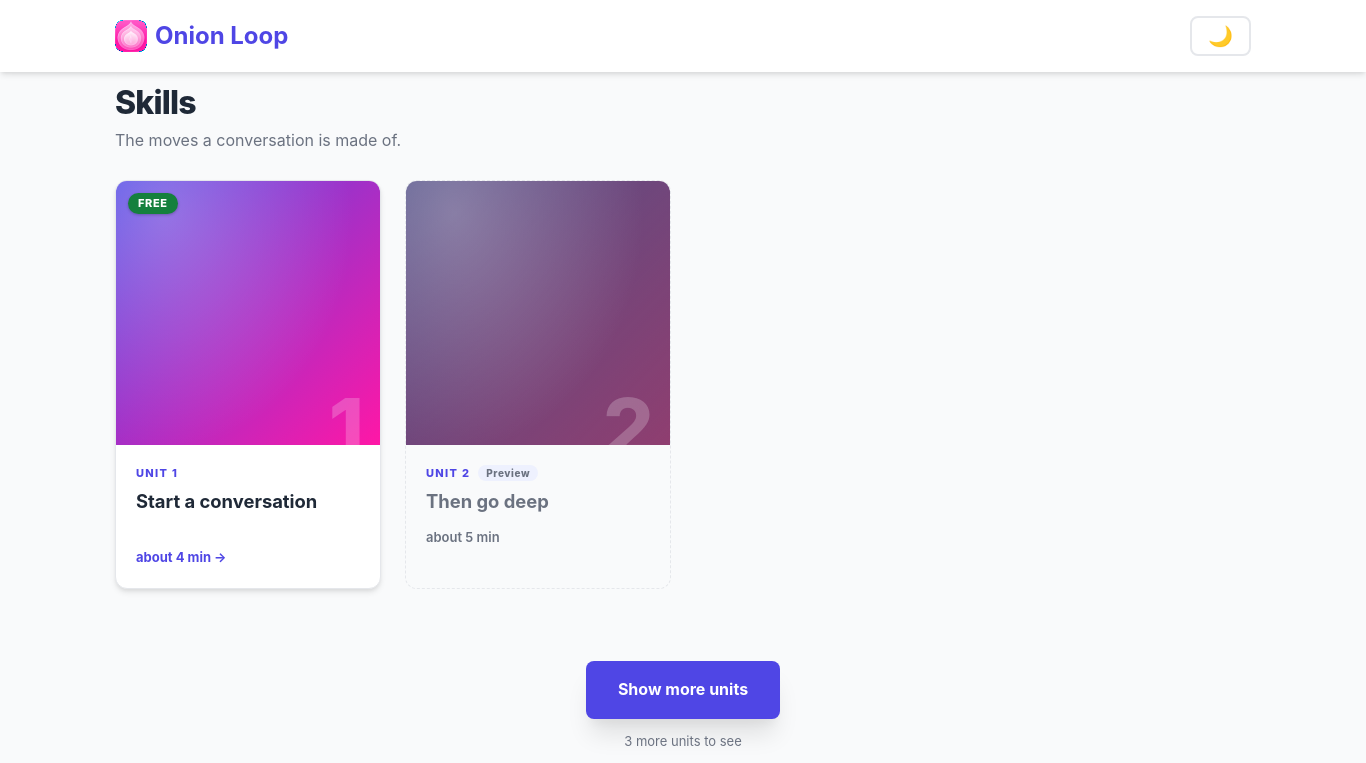
Test case: an authored example is never passed off as a rewrite of what you said
The width and height of the screenshot is (1366, 763).
(page scrolled)
Click the button "UNIT 1 Start a conversation Free about 4 min →" at (248, 384), box [115,180,381,589]
(page scrolled)
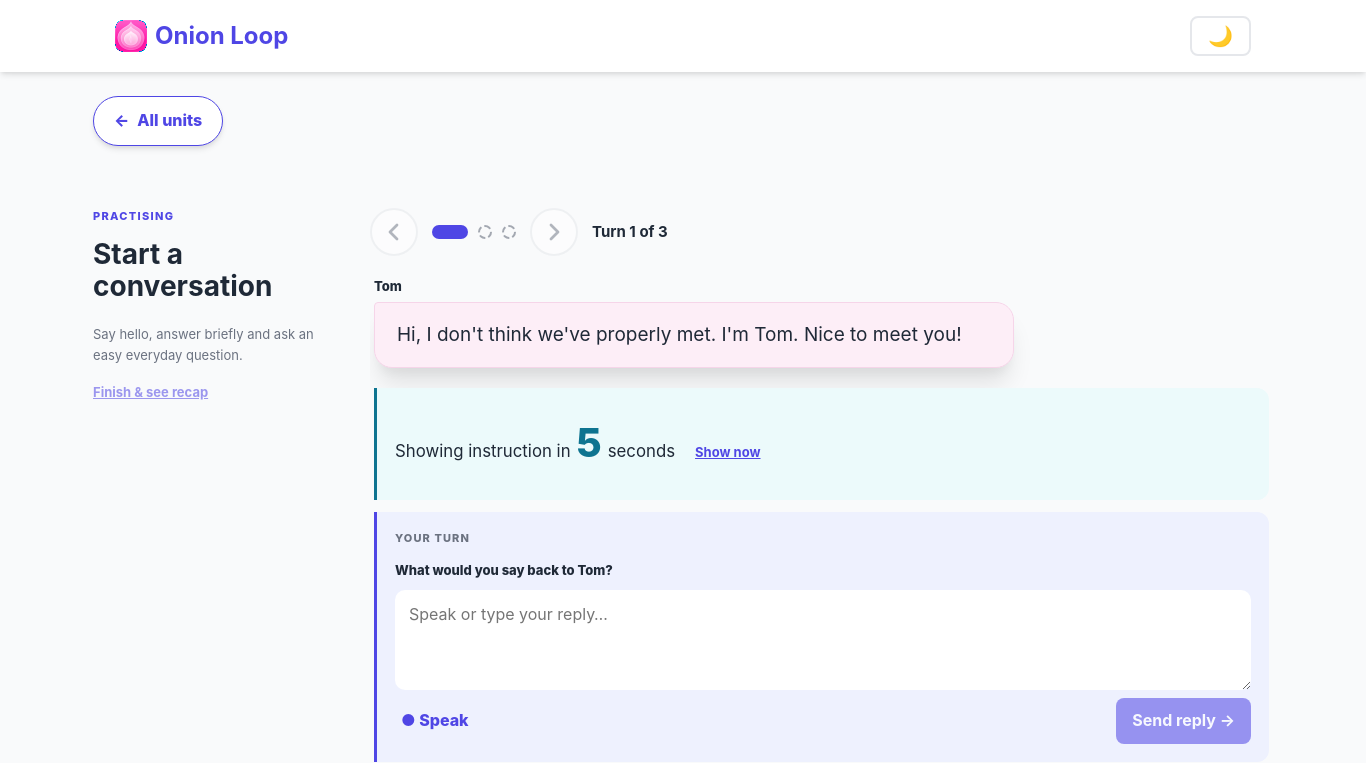
Type "Hi Tom, I am Alex." into the text box at (823, 640), box [395,590,1251,690]
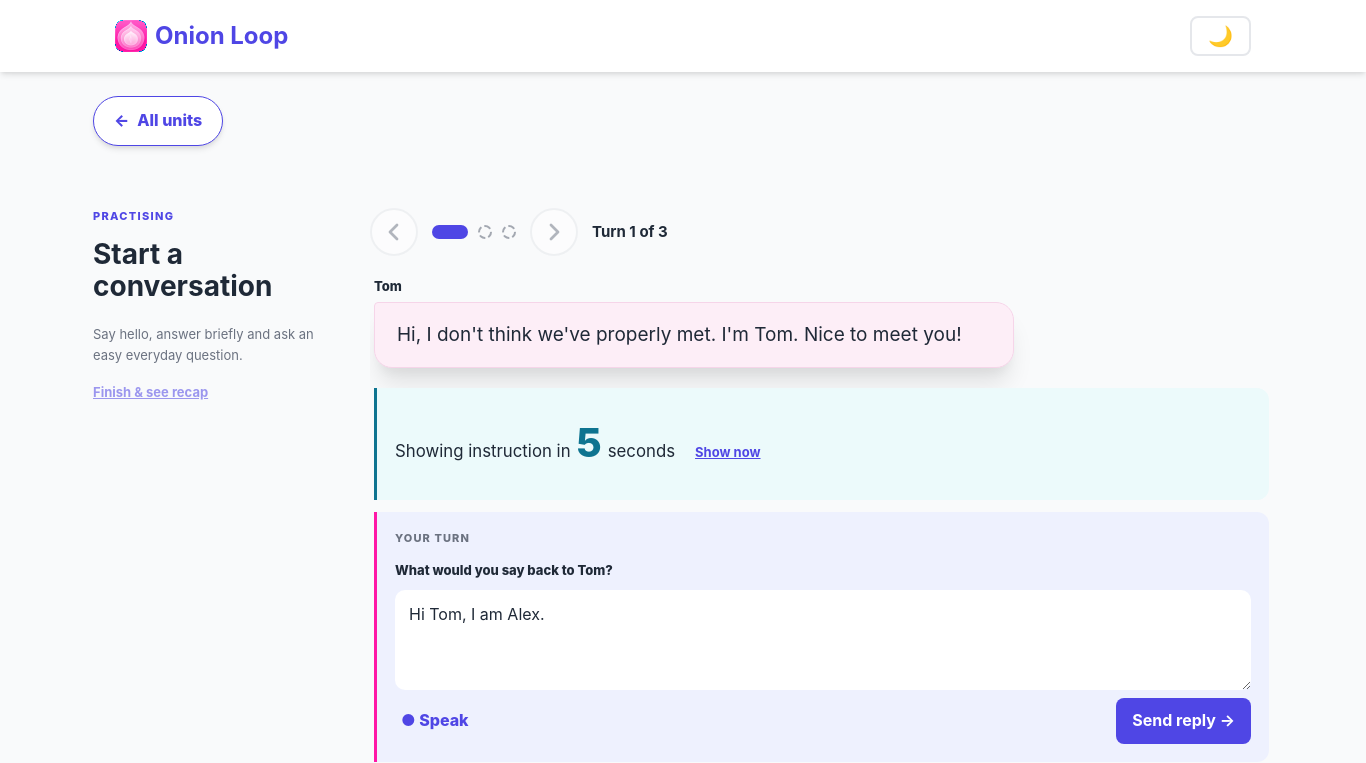
Click the button "Send reply →" at (1184, 721), box [1116,698,1251,744]
(page scrolled)
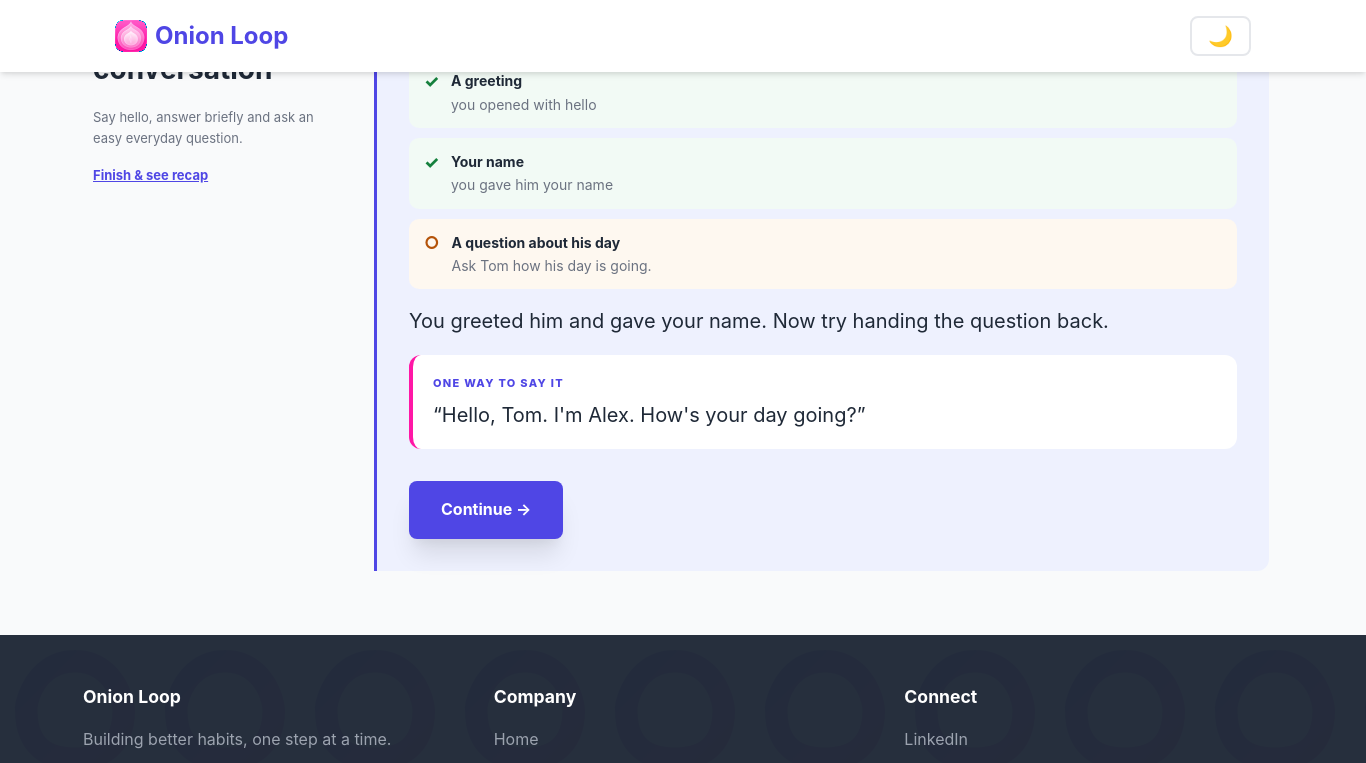
Now the text "You greeted him and gave your name. Now try handing the question back." is shown, box [409,310,1109,334]
Now the text "ONE WAY TO SAY IT" is shown, box [433,376,564,390]
